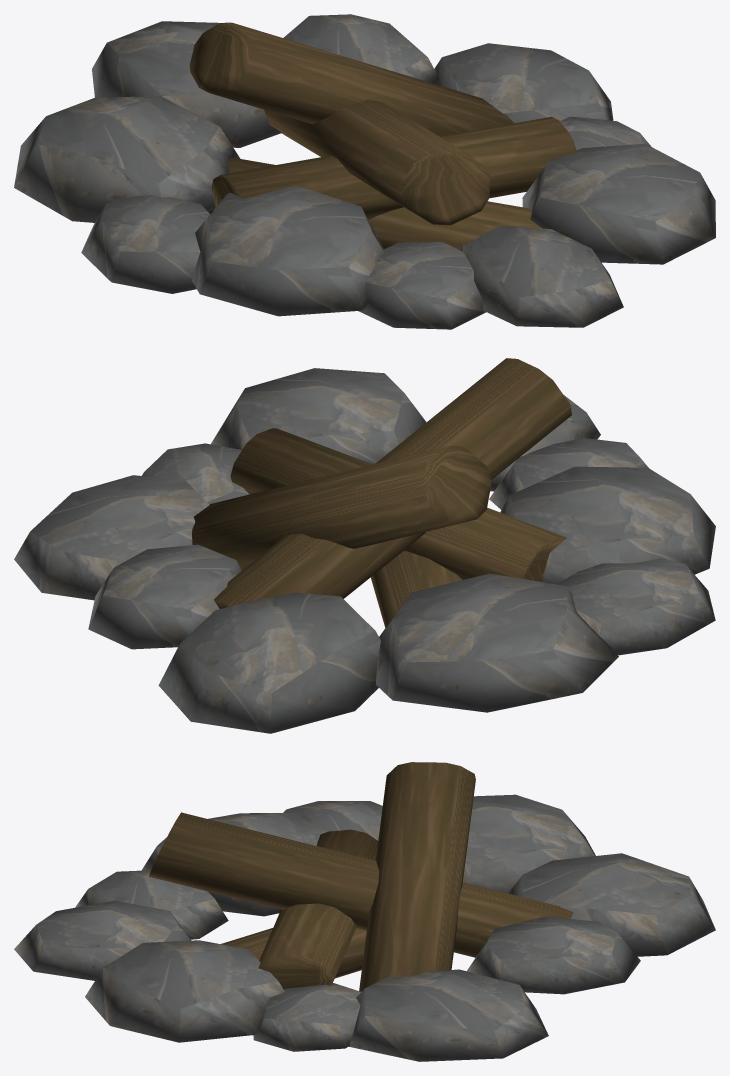
Rendered from firepit.fbx.
The picture shows the model from 3 angles, top to bottom: view 1: azimuth 30°, elevation 25°; view 2: azimuth 150°, elevation 25°; view 3: azimuth 270°, elevation 25°; orthographic projection. The views are drawn at different scales.
Parts seen in each view (by area): view 1: Firepit; view 2: Firepit; view 3: Firepit.
Part boxes in pixels (box(x1,y1,x2,y2)): Firepit: box(14, 14, 715, 329); Firepit: box(14, 358, 715, 733); Firepit: box(14, 762, 715, 1061).
Size of the model in its own units: 0.7571 by 0.2578 by 0.9206.
